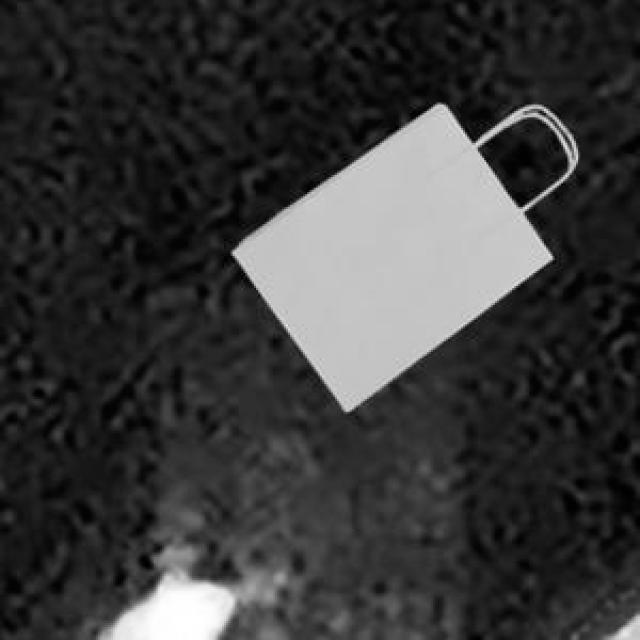paper: (228, 100, 574, 408)
